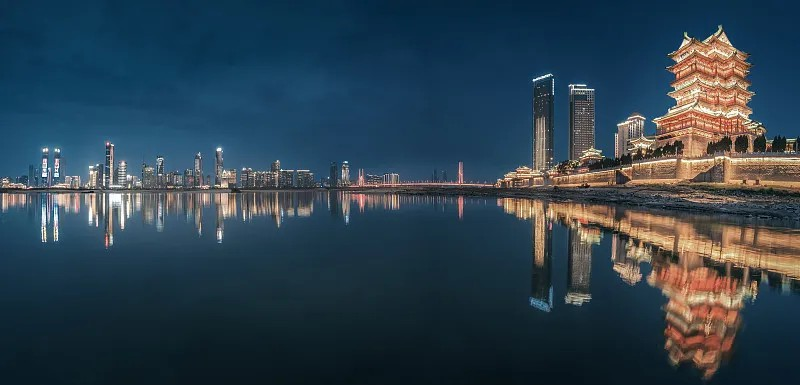Teng: (653, 26, 766, 137)
